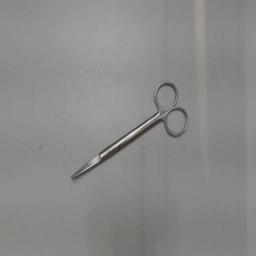Curved Mayo Scissors: (67, 78, 193, 184)
